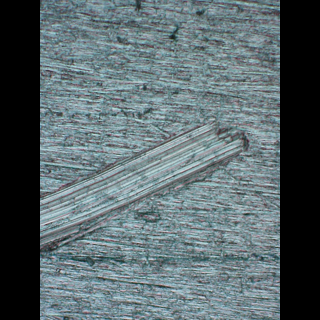d: (40, 118, 253, 257)
